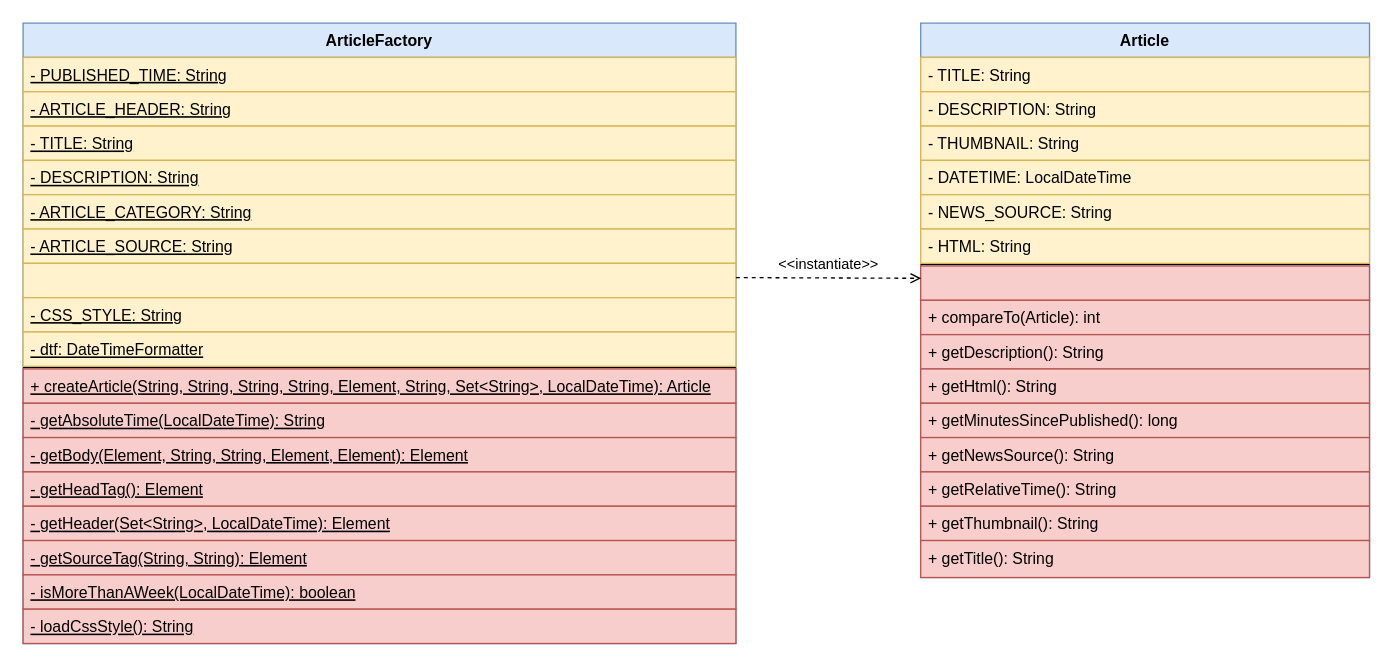
The diagram is 1393 pixels wide and 671 high, and some of its shapes have lost their labels. The centre of each missing label's shape, as x and y in pixels:
+ Article(String, String, String, String, LocalDateTime, String): the point at 1144,282
- MAIN_CONTENT: String: the point at 379,280
